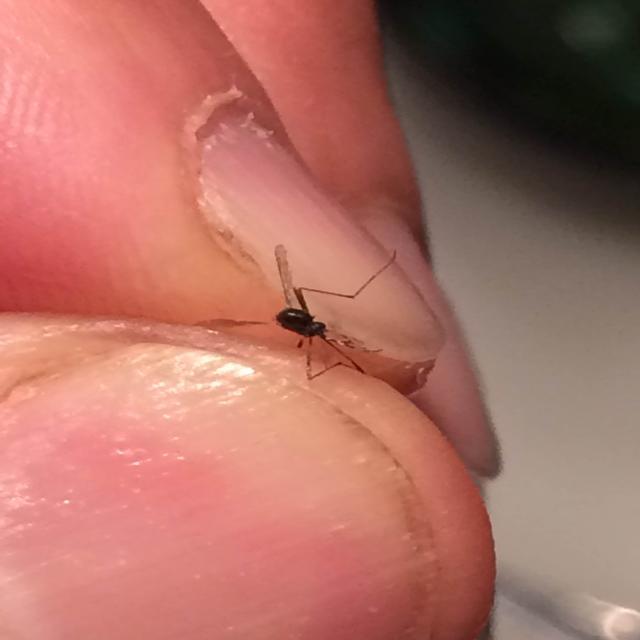albopictus: (189, 234, 413, 396)
